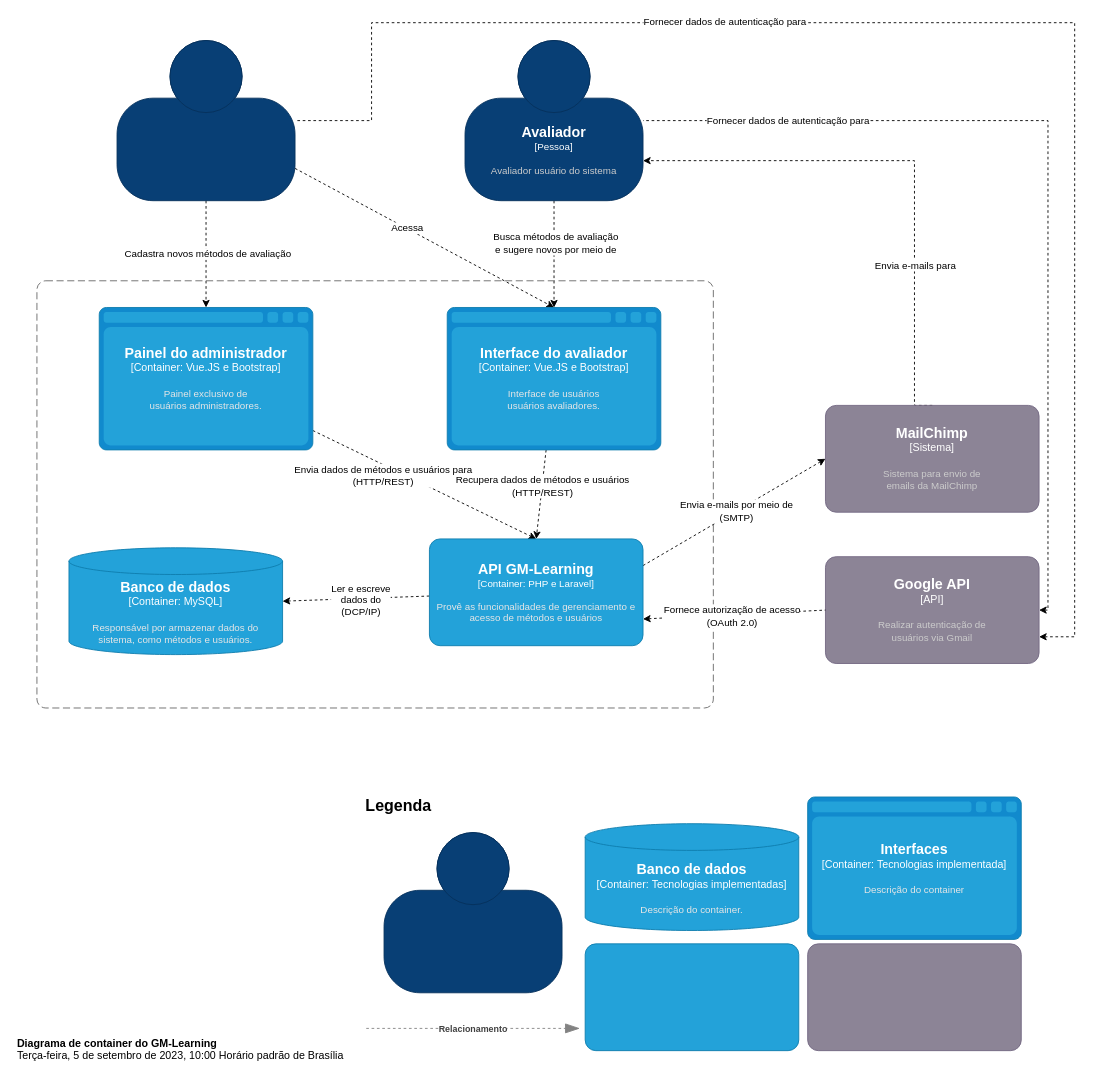
The diagram is 1097 pixels wide and 1081 high, and some of its shapes have lost their labels. Here are the shapes that lost their labels. From the top down, the box of each, then its label:
(116, 40, 295, 201): Administrador [Pessoa] Administrador responsável pelo sistema
(36, 280, 713, 708): GM-Learning [Sistema]
(383, 832, 562, 993): Nome da pessoa [Pessoa] Pessoa
(584, 943, 799, 1051): API [Container: Tecnologia implementada] Descrição do container
(807, 943, 1021, 1051): Sistema externo [Tipo do sistema] Descrição do sistema externo
